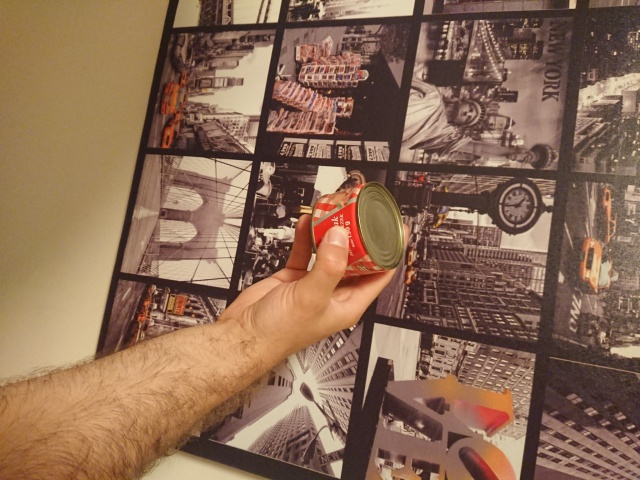Podravka Luncheon Meat 150g: (309, 178, 407, 283)
